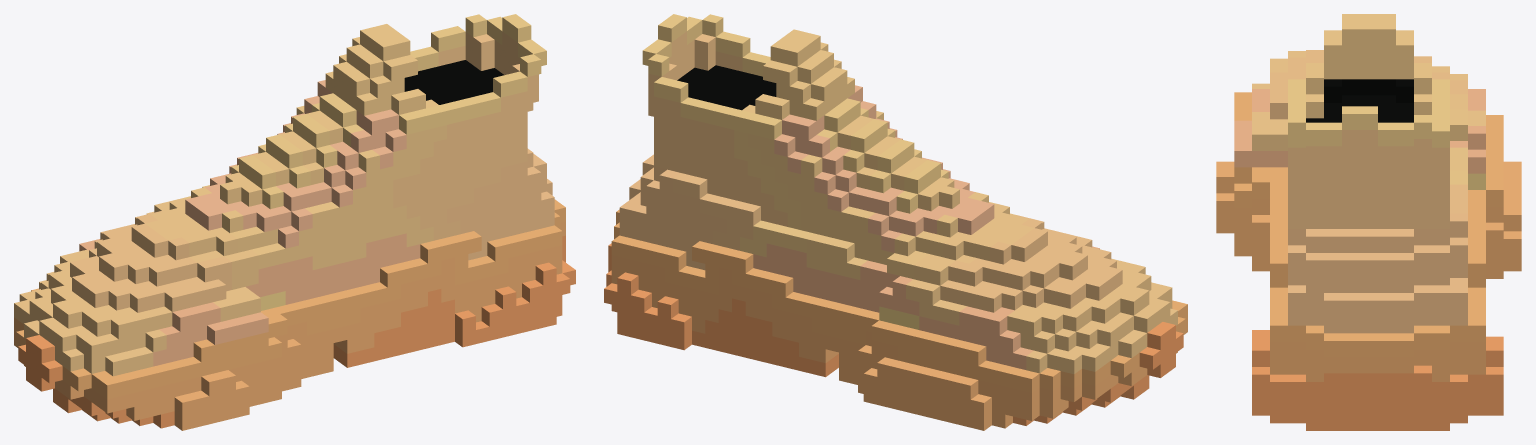
Rendered from Blissful Biege.fbx.
The picture shows the model from 3 angles, left to right: view 1: azimuth 30°, elevation 25°; view 2: azimuth 150°, elevation 25°; view 3: azimuth 270°, elevation 25°; orthographic projection. The views are drawn at different scales.
Parts seen in each view (by area): view 1: Untitled; view 2: Untitled; view 3: Untitled.
Boxes of the visible parts, x1,y1,x2,y2 form: Untitled: [14, 14, 575, 430]; Untitled: [604, 14, 1187, 430]; Untitled: [1216, 14, 1521, 430].
Size of the model in its own units: 390 by 200 by 170.
